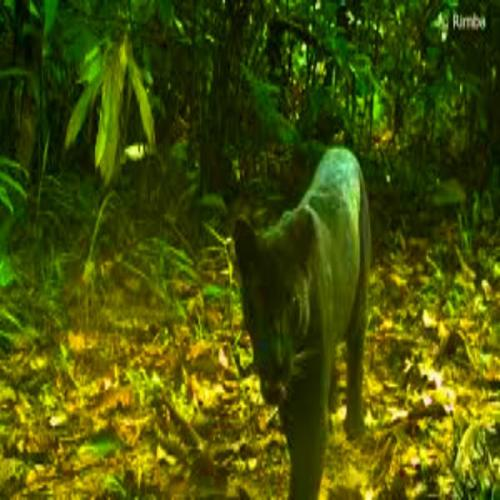panther-endangered: (229, 151, 371, 500)
